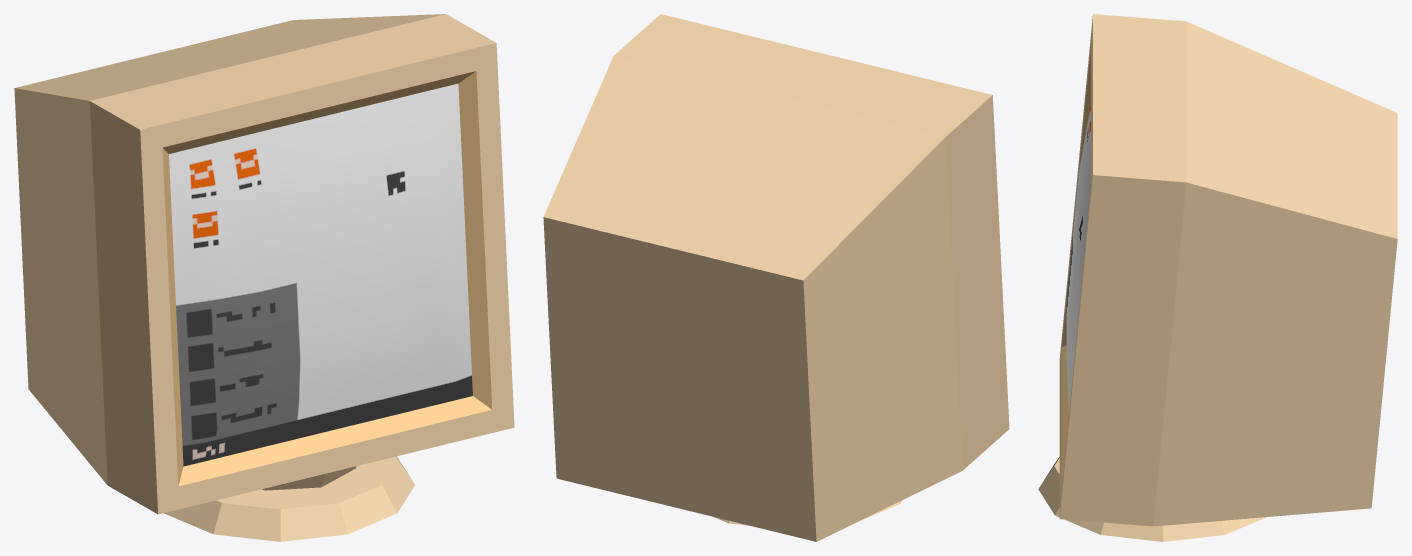
The model's file is Computer_Old_Monitor.fbx.
3 views of the same model, side by side, from view 1: azimuth 30°, elevation 25°; view 2: azimuth 150°, elevation 25°; view 3: azimuth 270°, elevation 25° (orthographic). The views are drawn at different scales.
Visible parts, largest first — view 1: Computer_Old_Monitor; view 2: Computer_Old_Monitor; view 3: Computer_Old_Monitor.
Boxes of the visible parts, x1=… form: Computer_Old_Monitor: x1=14, y1=14, x2=514, y2=541; Computer_Old_Monitor: x1=543, y1=14, x2=1009, y2=541; Computer_Old_Monitor: x1=1038, y1=14, x2=1397, y2=541.
Size of the model in its own units: 44.37 by 50.72 by 41.84.
